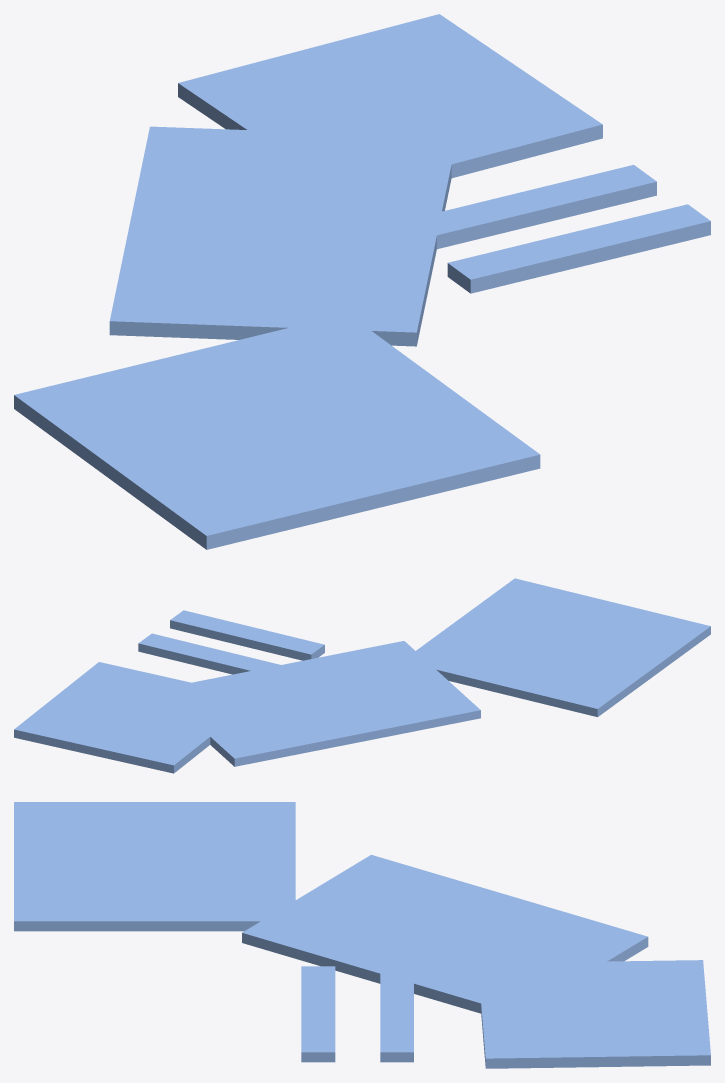
Rendered from water_surface.fbx.
3 renders of one model, top to bottom at view 1: azimuth 30°, elevation 25°; view 2: azimuth 150°, elevation 25°; view 3: azimuth 270°, elevation 25°, orthographic. The views are drawn at different scales.
Parts seen in each view (by area): view 1: Cube12, Cube13, Cube14, Cube11, Cube10; view 2: Cube12, Cube13, Cube14, Cube11, Cube10; view 3: Cube12, Cube13, Cube14, Cube11, Cube10.
Boxes of the visible parts, left/top/right/bottom form: Cube12: left=14, top=328, right=540, bottom=549; Cube13: left=109, top=126, right=456, bottom=346; Cube14: left=178, top=14, right=602, bottom=190; Cube11: left=447, top=204, right=710, bottom=293; Cube10: left=394, top=165, right=656, bottom=249; Cube12: left=402, top=578, right=710, bottom=717; Cube13: left=158, top=641, right=480, bottom=766; Cube14: left=14, top=662, right=246, bottom=773; Cube11: left=170, top=610, right=324, bottom=660; Cube10: left=138, top=633, right=292, bottom=677; Cube12: left=14, top=802, right=295, bottom=931; Cube13: left=242, top=854, right=648, bottom=1014; Cube14: left=478, top=960, right=710, bottom=1068; Cube11: left=301, top=966, right=335, bottom=1062; Cube10: left=380, top=968, right=413, bottom=1062.
Bounding box in the file's own units: 53.84 × 1 × 61.84.
